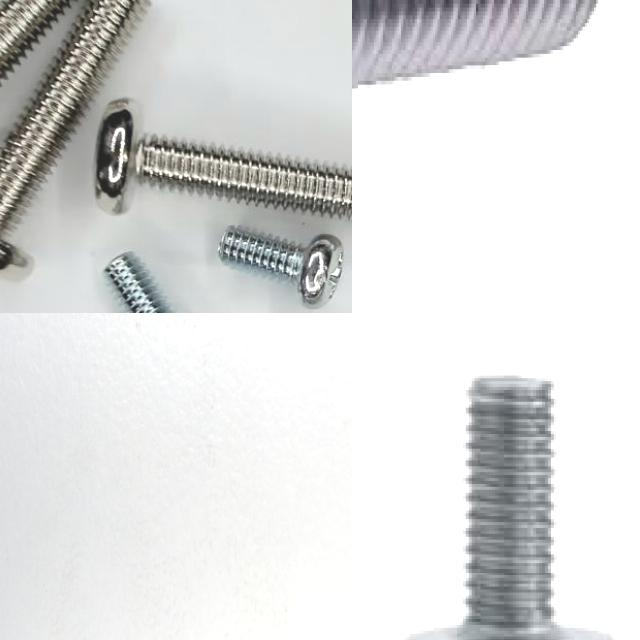Screw: (404, 375, 613, 640), (0, 0, 147, 235), (94, 98, 352, 218), (218, 227, 343, 307), (0, 0, 72, 80), (104, 252, 168, 313)
